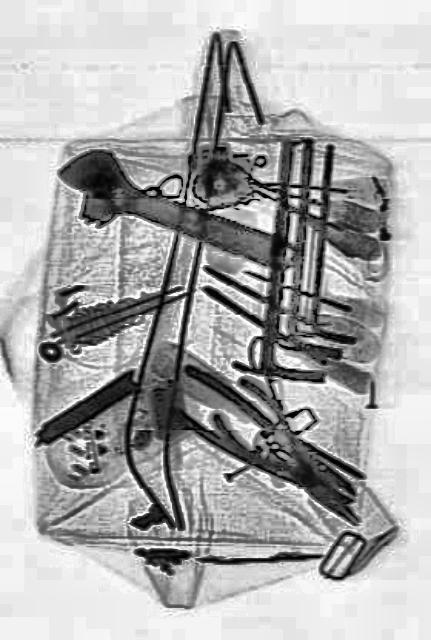Pliers: (166, 356, 364, 528), (206, 364, 373, 552)
Wrench: (47, 131, 303, 297)
